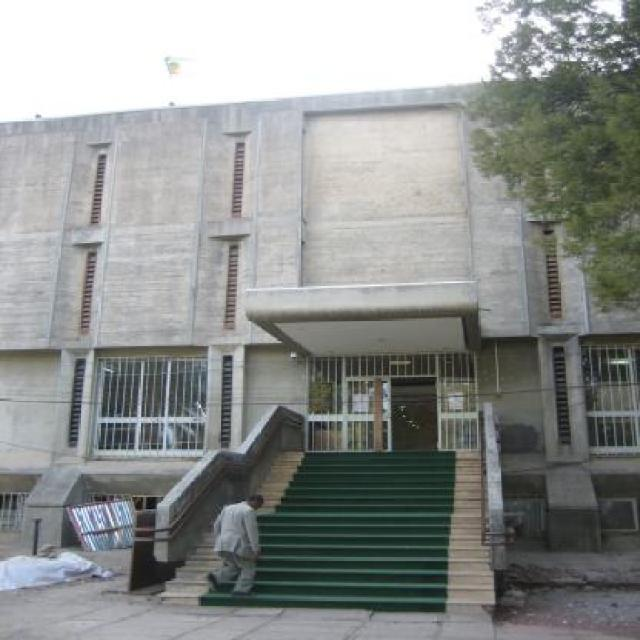stair: (160, 452, 496, 616)
